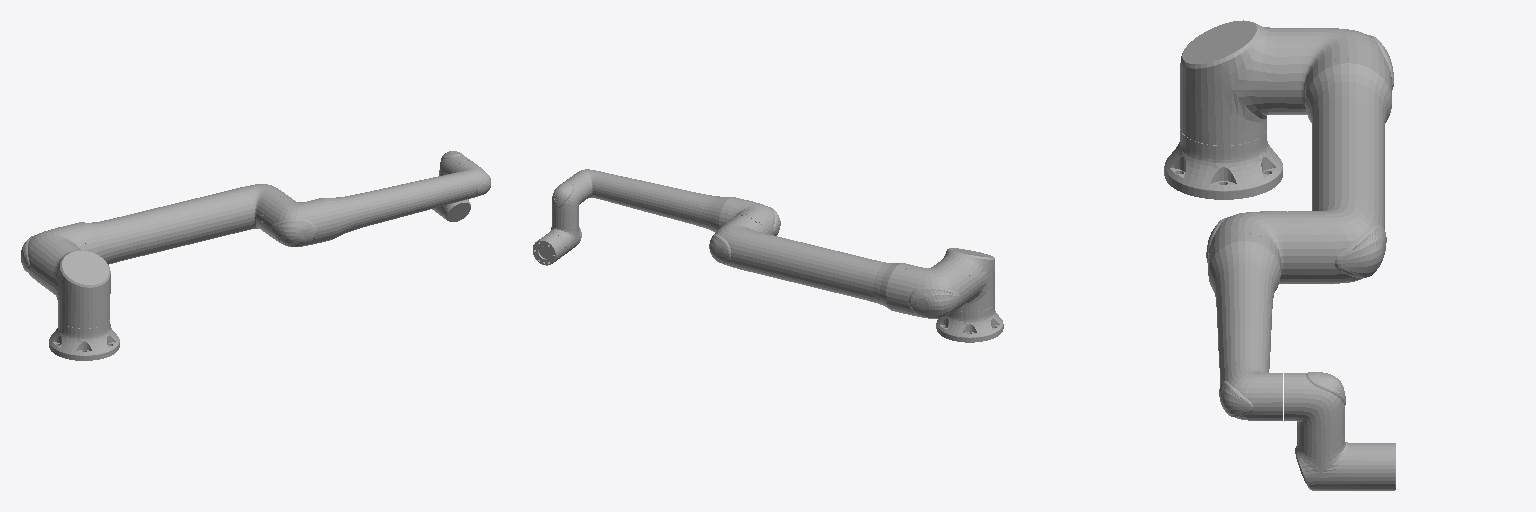
The robot description file, URDF, robot "ur20_robot":
<?xml version="1.0" ?>
<!-- =================================================================================== -->
<!-- |    This document was autogenerated by xacro from ur20.xacro                     | -->
<!-- |    EDITING THIS FILE BY HAND IS NOT RECOMMENDED                                 | -->
<!-- =================================================================================== -->
<robot name="ur20_robot">
  <!--
    Base UR robot series xacro macro.

    NOTE: this is NOT a URDF. It cannot directly be loaded by consumers
    expecting a flattened '.urdf' file. See the top-level '.xacro' for that
    (but note: that .xacro must still be processed by the xacro command).

    For use in '.launch' files: use one of the 'load_urX.launch' convenience
    launch files.

    This file models the base kinematic chain of a UR robot, which then gets
    parameterised by various configuration files to convert it into a UR3(e),
    UR5(e), UR10(e), UR16e, UR20 or UR30.

    NOTE: the default kinematic parameters (ie: link lengths, frame locations,
    offets, etc) do not correspond to any particular robot. They are defaults
    only. There WILL be non-zero offsets between the Forward Kinematics results
    in TF (ie: robot_state_publisher) and the values reported by the Teach
    Pendant.

    For accurate (and robot-specific) transforms, the 'kinematics_parameters_file'
    parameter MUST point to a .yaml file containing the appropriate values for
    the targetted robot.

    If using the UniversalRobots/Universal_Robots_ROS_Driver, follow the steps
    described in the readme of that repository to extract the kinematic
    calibration from the controller and generate the required .yaml file.

    Main author of the migration to yaml configs: Ludovic Delval.

    Contributors to previous versions (in no particular order):

     - Felix Messmer
     - Kelsey Hawkins
     - Wim Meeussen
     - Shaun Edwards
     - Nadia Hammoudeh Garcia
     - Dave Hershberger
     - G. vd. Hoorn
     - Philip Long
     - Dave Coleman
     - Miguel Prada
     - Mathias Luedtke
     - Marcel Schnirring
     - Felix von Drigalski
     - Felix Exner
     - Jimmy Da Silva
     - Ajit Krisshna N L
     - Muhammad Asif Rana
  -->
  <!--
    NOTE: the macro defined in this file is NOT part of the public API of this
          package. Users CANNOT rely on this file being available, or stored in
          this location. Nor can they rely on the existence of the macro.
  -->
  <transmission name="shoulder_pan_trans">
    <type>transmission_interface/SimpleTransmission</type>
    <joint name="shoulder_pan_joint">
      <hardwareInterface>hardware_interface/PositionJointInterface</hardwareInterface>
    </joint>
    <actuator name="shoulder_pan_motor">
      <mechanicalReduction>1</mechanicalReduction>
    </actuator>
  </transmission>
  <transmission name="shoulder_lift_trans">
    <type>transmission_interface/SimpleTransmission</type>
    <joint name="shoulder_lift_joint">
      <hardwareInterface>hardware_interface/PositionJointInterface</hardwareInterface>
    </joint>
    <actuator name="shoulder_lift_motor">
      <mechanicalReduction>1</mechanicalReduction>
    </actuator>
  </transmission>
  <transmission name="elbow_trans">
    <type>transmission_interface/SimpleTransmission</type>
    <joint name="elbow_joint">
      <hardwareInterface>hardware_interface/PositionJointInterface</hardwareInterface>
    </joint>
    <actuator name="elbow_motor">
      <mechanicalReduction>1</mechanicalReduction>
    </actuator>
  </transmission>
  <transmission name="wrist_1_trans">
    <type>transmission_interface/SimpleTransmission</type>
    <joint name="wrist_1_joint">
      <hardwareInterface>hardware_interface/PositionJointInterface</hardwareInterface>
    </joint>
    <actuator name="wrist_1_motor">
      <mechanicalReduction>1</mechanicalReduction>
    </actuator>
  </transmission>
  <transmission name="wrist_2_trans">
    <type>transmission_interface/SimpleTransmission</type>
    <joint name="wrist_2_joint">
      <hardwareInterface>hardware_interface/PositionJointInterface</hardwareInterface>
    </joint>
    <actuator name="wrist_2_motor">
      <mechanicalReduction>1</mechanicalReduction>
    </actuator>
  </transmission>
  <transmission name="wrist_3_trans">
    <type>transmission_interface/SimpleTransmission</type>
    <joint name="wrist_3_joint">
      <hardwareInterface>hardware_interface/PositionJointInterface</hardwareInterface>
    </joint>
    <actuator name="wrist_3_motor">
      <mechanicalReduction>1</mechanicalReduction>
    </actuator>
  </transmission>
  <!-- links: main serial chain -->
  <link name="base_link"/>
  <link name="base_link_inertia">
    <visual>
      <origin rpy="0 0 3.141592653589793" xyz="0 0 0"/>
      <geometry>
        <mesh filename="package://ur_description/meshes/ur20/visual/base.obj"/>
      </geometry>
      <material name="LightGrey">
        <color rgba="0.7 0.7 0.7 1.0"/>
      </material>
    </visual>
    <collision>
      <origin rpy="0 0 3.141592653589793" xyz="0 0 0"/>
      <geometry>
        <mesh filename="package://ur_description/meshes/ur20/collision/base.stl"/>
      </geometry>
    </collision>
    <inertial>
      <mass value="4.0"/>
      <origin rpy="0 0 0" xyz="0 0 0"/>
      <inertia ixx="0.0061063308908" ixy="0.0" ixz="0.0" iyy="0.0061063308908" iyz="0.0" izz="0.01125"/>
    </inertial>
  </link>
  <link name="shoulder_link">
    <visual>
      <origin rpy="0 0 3.141592653589793" xyz="0 0 0"/>
      <geometry>
        <mesh filename="package://ur_description/meshes/ur20/visual/shoulder.obj"/>
      </geometry>
      <material name="LightGrey">
        <color rgba="0.7 0.7 0.7 1.0"/>
      </material>
    </visual>
    <collision>
      <origin rpy="0 0 3.141592653589793" xyz="0 0 0"/>
      <geometry>
        <mesh filename="package://ur_description/meshes/ur20/collision/shoulder.stl"/>
      </geometry>
    </collision>
    <inertial>
      <mass value="16.343"/>
      <origin rpy="0 0 0" xyz="0 0 0"/>
      <inertia ixx="0.06613328496334209" ixy="0.0" ixz="0.0" iyy="0.06613328496334209" iyz="0.0" izz="0.0459646875"/>
    </inertial>
  </link>
  <link name="upper_arm_link">
    <visual>
      <origin rpy="1.5707963267948966 0 -1.5707963267948966" xyz="0 0 0.26"/>
      <geometry>
        <mesh filename="package://ur_description/meshes/ur20/visual/upperarm.obj"/>
      </geometry>
      <material name="LightGrey">
        <color rgba="0.7 0.7 0.7 1.0"/>
      </material>
    </visual>
    <collision>
      <origin rpy="1.5707963267948966 0 -1.5707963267948966" xyz="0 0 0.26"/>
      <geometry>
        <mesh filename="package://ur_description/meshes/ur20/collision/upperarm.stl"/>
      </geometry>
    </collision>
    <inertial>
      <mass value="29.632"/>
      <origin rpy="0 1.5707963267948966 0" xyz="-0.426 0.0 0.275"/>
      <inertia ixx="1.8341682103324226" ixy="0.0" ixz="0.0" iyy="1.8341682103324226" iyz="0.0" izz="0.08334"/>
    </inertial>
  </link>
  <link name="forearm_link">
    <visual>
      <origin rpy="1.5707963267948966 0 -1.5707963267948966" xyz="0 0 0.043"/>
      <geometry>
        <mesh filename="package://ur_description/meshes/ur20/visual/forearm.obj"/>
      </geometry>
      <material name="LightGrey">
        <color rgba="0.7 0.7 0.7 1.0"/>
      </material>
    </visual>
    <collision>
      <origin rpy="1.5707963267948966 0 -1.5707963267948966" xyz="0 0 0.043"/>
      <geometry>
        <mesh filename="package://ur_description/meshes/ur20/collision/forearm.stl"/>
      </geometry>
    </collision>
    <inertial>
      <mass value="7.879"/>
      <origin rpy="0 1.5707963267948966 0" xyz="-0.36435 0.0 0.043"/>
      <inertia ixx="0.35972787265129336" ixy="0.0" ixz="0.0" iyy="0.35972787265129336" iyz="0.0" izz="0.022159687499999997"/>
    </inertial>
  </link>
  <link name="wrist_1_link">
    <visual>
      <!-- TODO: Move this to a parameter -->
      <origin rpy="1.5707963267948966 0 0" xyz="0 0 -0.0775"/>
      <geometry>
        <mesh filename="package://ur_description/meshes/ur20/visual/wrist1.obj"/>
      </geometry>
      <material name="LightGrey">
        <color rgba="0.7 0.7 0.7 1.0"/>
      </material>
    </visual>
    <collision>
      <origin rpy="1.5707963267948966 0 0" xyz="0 0 -0.0775"/>
      <geometry>
        <mesh filename="package://ur_description/meshes/ur20/collision/wrist1.stl"/>
      </geometry>
    </collision>
    <inertial>
      <mass value="3.054"/>
      <origin rpy="0 0 0" xyz="0 0 0"/>
      <inertia ixx="0.007959484316204999" ixy="0.0" ixz="0.0" iyy="0.007959484316204999" iyz="0.0" izz="0.008589374999999998"/>
    </inertial>
  </link>
  <link name="wrist_2_link">
    <visual>
      <origin rpy="0 0 0" xyz="0 0 -0.0749"/>
      <geometry>
        <mesh filename="package://ur_description/meshes/ur20/visual/wrist2.obj"/>
      </geometry>
      <material name="LightGrey">
        <color rgba="0.7 0.7 0.7 1.0"/>
      </material>
    </visual>
    <collision>
      <origin rpy="0 0 0" xyz="0 0 -0.0749"/>
      <geometry>
        <mesh filename="package://ur_description/meshes/ur20/collision/wrist2.stl"/>
      </geometry>
    </collision>
    <inertial>
      <mass value="3.126"/>
      <origin rpy="0 0 0" xyz="0 0 0"/>
      <inertia ixx="0.008147134241144998" ixy="0.0" ixz="0.0" iyy="0.008147134241144998" iyz="0.0" izz="0.008791875"/>
    </inertial>
  </link>
  <link name="wrist_3_link">
    <visual>
      <origin rpy="1.5707963267948966 0 0" xyz="0 0 -0.07"/>
      <geometry>
        <mesh filename="package://ur_description/meshes/ur20/visual/wrist3.obj"/>
      </geometry>
      <material name="LightGrey">
        <color rgba="0.7 0.7 0.7 1.0"/>
      </material>
    </visual>
    <collision>
      <origin rpy="1.5707963267948966 0 0" xyz="0 0 -0.07"/>
      <geometry>
        <mesh filename="package://ur_description/meshes/ur20/collision/wrist3.stl"/>
      </geometry>
    </collision>
    <inertial>
      <mass value="0.846"/>
      <origin rpy="0 0 0" xyz="0.0 0.0 -0.025"/>
      <inertia ixx="0.000604537258185" ixy="0.0" ixz="0.0" iyy="0.000604537258185" iyz="0.0" izz="0.0008565749999999999"/>
    </inertial>
  </link>
  <!-- joints: main serial chain -->
  <joint name="base_link-base_link_inertia" type="fixed">
    <parent link="base_link"/>
    <child link="base_link_inertia"/>
    <!-- 'base_link' is REP-103 aligned (so X+ forward), while the internal
           frames of the robot/controller have X+ pointing backwards.
           Use the joint between 'base_link' and 'base_link_inertia' (a dummy
           link/frame) to introduce the necessary rotation over Z (of pi rad).
      -->
    <origin rpy="0 0 3.141592653589793" xyz="0 0 0"/>
  </joint>
  <joint name="shoulder_pan_joint" type="revolute">
    <parent link="base_link_inertia"/>
    <child link="shoulder_link"/>
    <origin rpy="0 0 0" xyz="0 0 0.2363"/>
    <axis xyz="0 0 1"/>
    <limit effort="730.0" lower="-6.283185307179586" upper="6.283185307179586" velocity="2.0943951023931953"/>
    <dynamics damping="0" friction="0"/>
  </joint>
  <joint name="shoulder_lift_joint" type="revolute">
    <parent link="shoulder_link"/>
    <child link="upper_arm_link"/>
    <origin rpy="1.570796327 0 0" xyz="0 0 0"/>
    <axis xyz="0 0 1"/>
    <limit effort="730.0" lower="-6.283185307179586" upper="6.283185307179586" velocity="2.0943951023931953"/>
    <dynamics damping="0" friction="0"/>
  </joint>
  <joint name="elbow_joint" type="revolute">
    <parent link="upper_arm_link"/>
    <child link="forearm_link"/>
    <origin rpy="0 0 0" xyz="-0.862 0 0"/>
    <axis xyz="0 0 1"/>
    <limit effort="430.0" lower="-3.141592653589793" upper="3.141592653589793" velocity="2.6179938779914944"/>
    <dynamics damping="0" friction="0"/>
  </joint>
  <joint name="wrist_1_joint" type="revolute">
    <parent link="forearm_link"/>
    <child link="wrist_1_link"/>
    <origin rpy="0 0 0" xyz="-0.7287 0 0.201"/>
    <axis xyz="0 0 1"/>
    <limit effort="100.0" lower="-6.283185307179586" upper="6.283185307179586" velocity="3.6651914291880923"/>
    <dynamics damping="0" friction="0"/>
  </joint>
  <joint name="wrist_2_joint" type="revolute">
    <parent link="wrist_1_link"/>
    <child link="wrist_2_link"/>
    <origin rpy="1.570796327 0 0" xyz="0 -0.1593 -3.267297616249225e-11"/>
    <axis xyz="0 0 1"/>
    <limit effort="100.0" lower="-6.283185307179586" upper="6.283185307179586" velocity="3.6651914291880923"/>
    <dynamics damping="0" friction="0"/>
  </joint>
  <joint name="wrist_3_joint" type="revolute">
    <parent link="wrist_2_link"/>
    <child link="wrist_3_link"/>
    <origin rpy="1.570796326589793 3.141592653589793 3.141592653589793" xyz="0 0.1543 -3.1647459019915597e-11"/>
    <axis xyz="0 0 1"/>
    <limit effort="100.0" lower="-6.283185307179586" upper="6.283185307179586" velocity="3.6651914291880923"/>
    <dynamics damping="0" friction="0"/>
  </joint>
  <!-- ROS-Industrial 'base' frame: base_link to UR 'Base' Coordinates transform -->
  <link name="base"/>
  <joint name="base_link-base_fixed_joint" type="fixed">
    <!-- Note the rotation over Z of pi radians: as base_link is REP-103
           aligned (ie: has X+ forward, Y+ left and Z+ up), this is needed
           to correctly align 'base' with the 'Base' coordinate system of
           the UR controller.
      -->
    <origin rpy="0 0 3.141592653589793" xyz="0 0 0"/>
    <parent link="base_link"/>
    <child link="base"/>
  </joint>
  <!-- ROS-Industrial 'flange' frame: attachment point for EEF models -->
  <link name="flange"/>
  <joint name="wrist_3-flange" type="fixed">
    <parent link="wrist_3_link"/>
    <child link="flange"/>
    <origin rpy="0 -1.5707963267948966 -1.5707963267948966" xyz="0 0 0"/>
  </joint>
  <!-- ROS-Industrial 'tool0' frame: all-zeros tool frame -->
  <link name="tool0"/>
  <joint name="flange-tool0" type="fixed">
    <!-- default toolframe: X+ left, Y+ up, Z+ front -->
    <origin rpy="1.5707963267948966 0 1.5707963267948966" xyz="0 0 0"/>
    <parent link="flange"/>
    <child link="tool0"/>
  </joint>
</robot>

--- Render facts (derived) ---
The picture shows the robot from 3 angles, left to right: view 1: azimuth 30°, elevation 25°; view 2: azimuth 150°, elevation 25°; view 3: azimuth 270°, elevation 25°; orthographic projection.
Model ur20_robot with 11 links and 10 joints (6 revolute, 4 fixed), rooted at base_link, posed all joints at 0.
Links seen in each view (by area): view 1: upper_arm_link, forearm_link, shoulder_link, base_link_inertia, wrist_2_link; view 2: upper_arm_link, forearm_link, shoulder_link, base_link_inertia, wrist_1_link, wrist_3_link, wrist_2_link; view 3: upper_arm_link, forearm_link, shoulder_link, base_link_inertia, wrist_1_link, wrist_2_link, wrist_3_link.
Boxes of the visible links, x1,y1,x2,y2 form: upper_arm_link: (21, 184, 290, 288); forearm_link: (261, 160, 490, 246); shoulder_link: (42, 246, 110, 328); base_link_inertia: (49, 318, 119, 360); wrist_2_link: (432, 199, 470, 221); upper_arm_link: (709, 215, 972, 318); forearm_link: (570, 169, 780, 235); shoulder_link: (938, 248, 994, 311); base_link_inertia: (936, 302, 1003, 342); wrist_1_link: (552, 178, 587, 224); wrist_3_link: (533, 233, 565, 265); wrist_2_link: (548, 220, 581, 255); upper_arm_link: (1286, 28, 1393, 283); forearm_link: (1206, 211, 1294, 420); shoulder_link: (1180, 20, 1288, 145); base_link_inertia: (1164, 129, 1282, 199); wrist_1_link: (1284, 372, 1345, 443); wrist_2_link: (1295, 436, 1361, 490); wrist_3_link: (1362, 443, 1395, 490).
Bounding box of the posed robot: 1.77 × 0.4775 × 0.333 m (x, y, z).
Meshes: 7 distinct files referenced, 7 mesh visuals loaded (7 OBJ).
